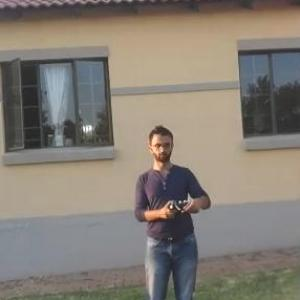follow: (127, 117, 218, 299)
